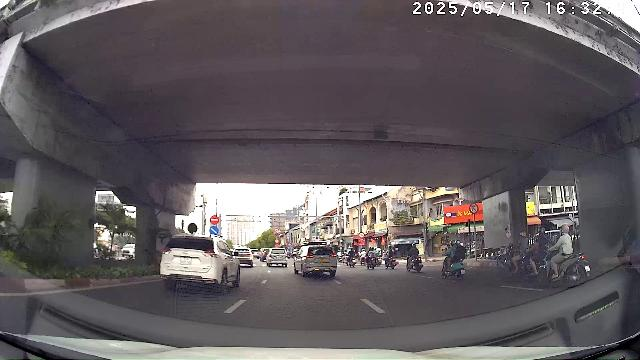123b-cam-re-phai: (469, 204, 479, 214)
